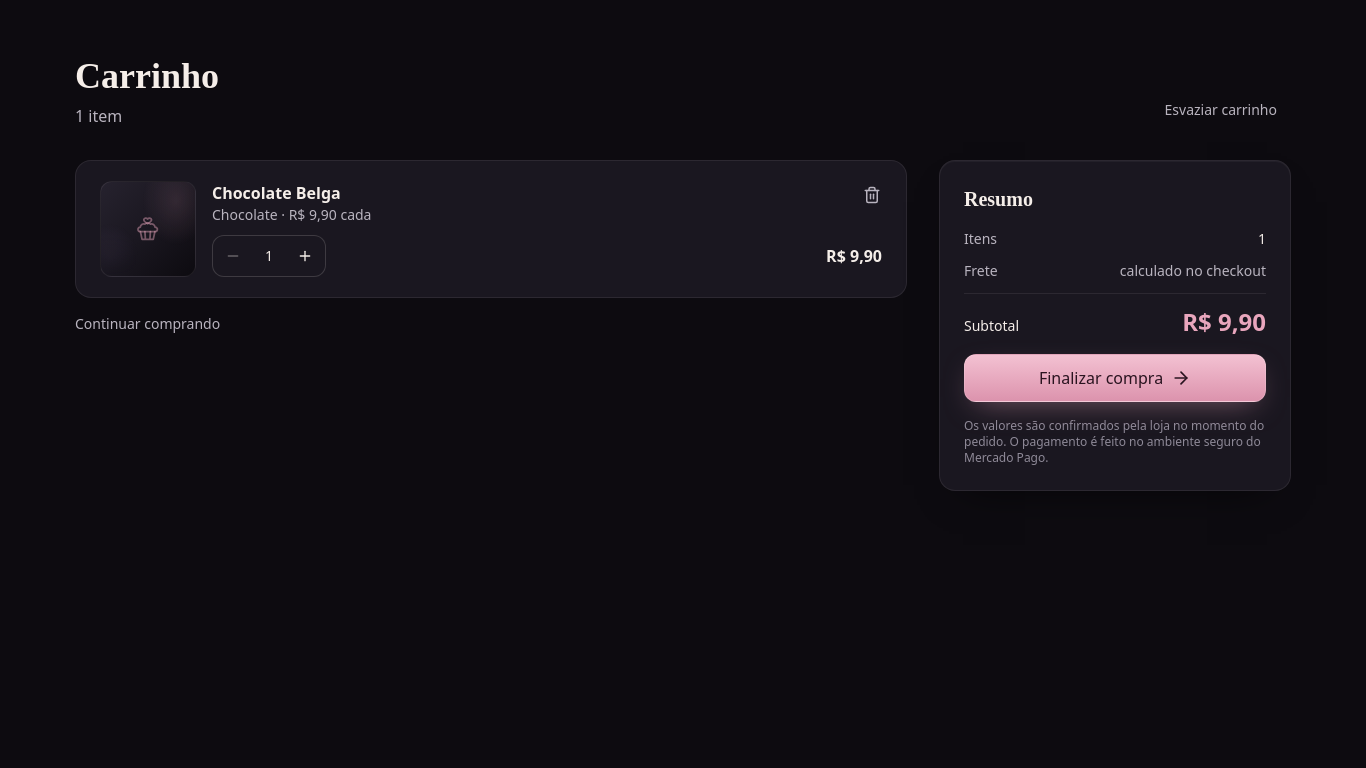
Test: CartPage › esvazia o carrinho após confirmação
Click the button "Esvaziar carrinho".
click(1221, 110)  # box [1150,92,1291,128]
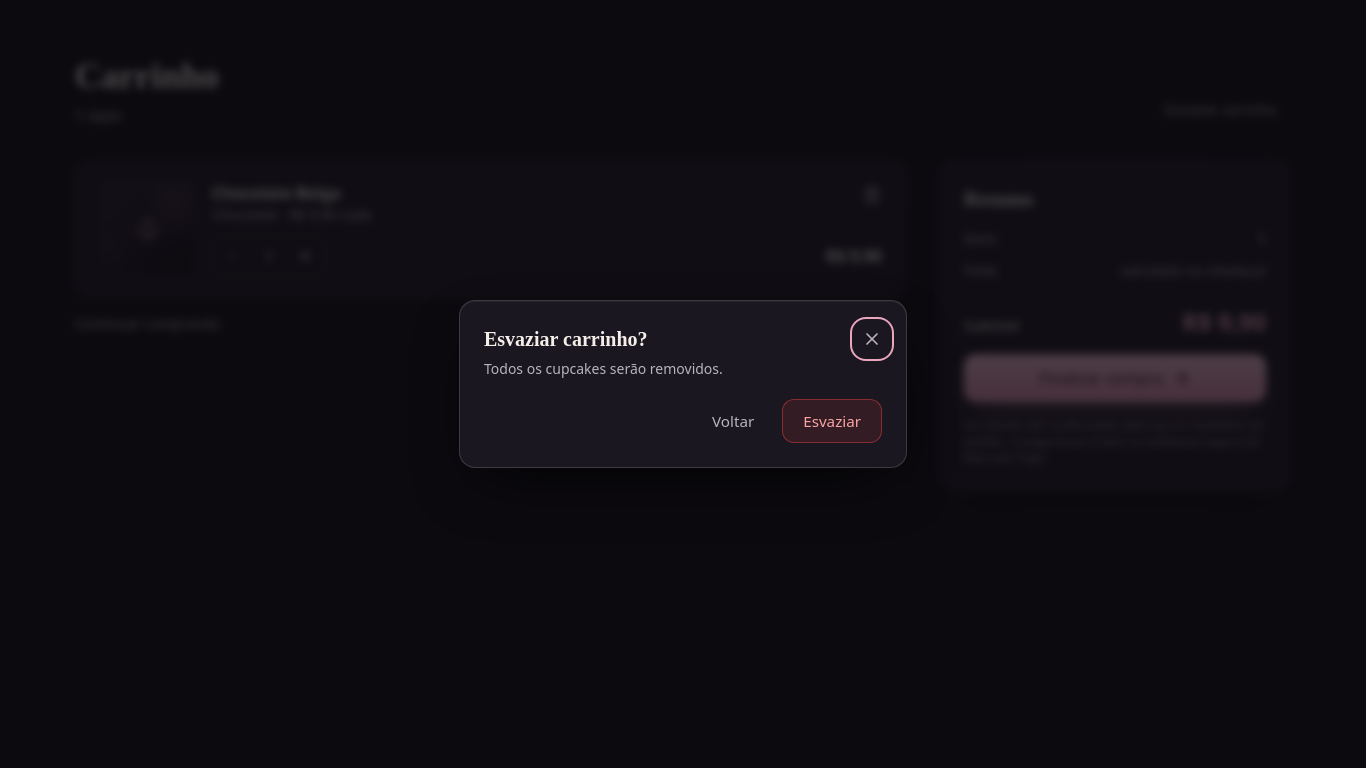
Click the button "Esvaziar".
click(832, 421)  # box [782,399,882,443]
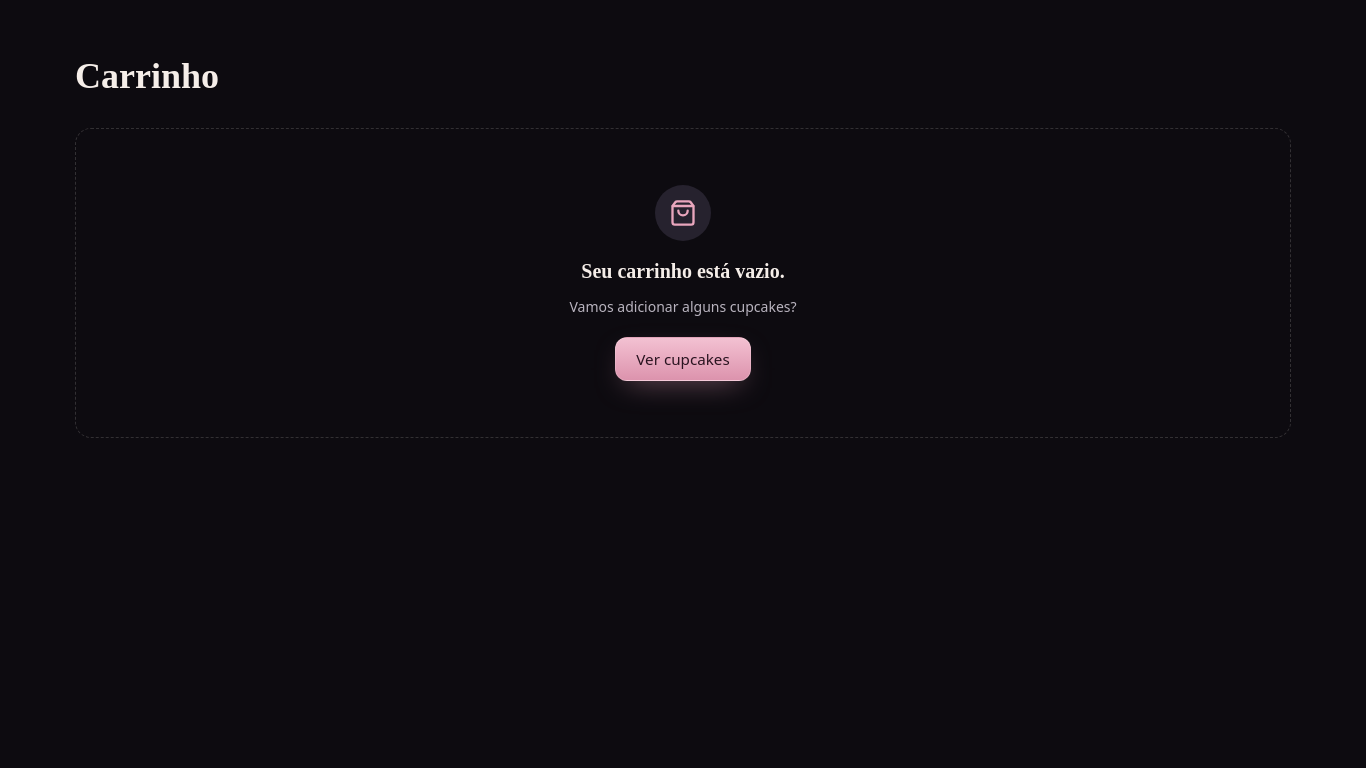
Result: the heading "Seu carrinho está vazio." is shown at [581,257,785,285]
